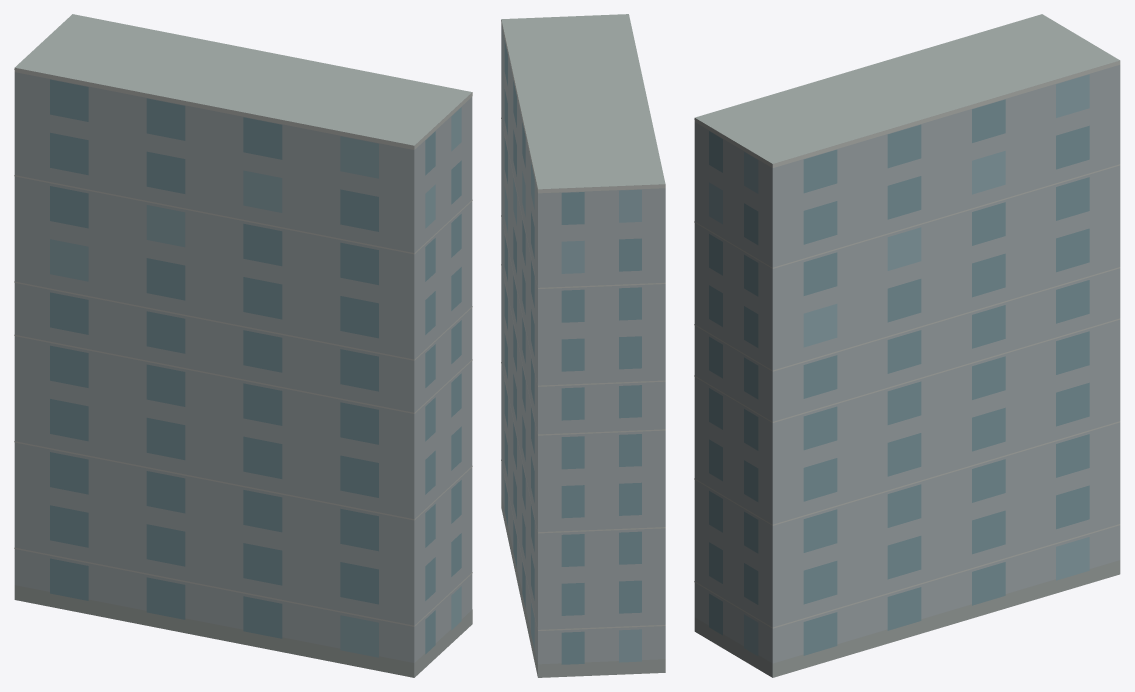
Rendered from survey-upis-32769933.glb.
3 views of the same model, side by side, from view 1: azimuth 30°, elevation 25°; view 2: azimuth 150°, elevation 25°; view 3: azimuth 270°, elevation 25° (orthographic). The views are drawn at different scales.
Parts seen in each view (by area): view 1: survey-upis-32769933.tmp; view 2: survey-upis-32769933.tmp; view 3: survey-upis-32769933.tmp.
Boxes of the visible parts, x1,y1,x2,y2 form: survey-upis-32769933.tmp: [14, 14, 472, 677]; survey-upis-32769933.tmp: [501, 14, 665, 677]; survey-upis-32769933.tmp: [694, 14, 1120, 677].
Bounding box in the file's own units: 18.55 × 29.6 × 22.24.
